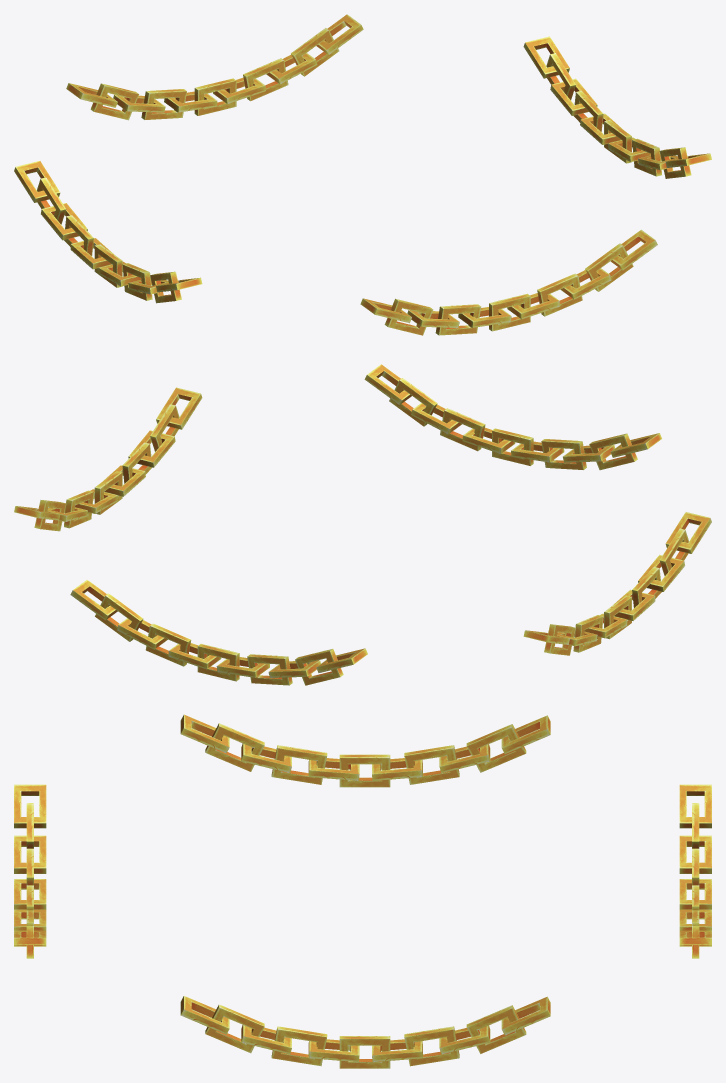
Rendered from The main city_025_LV05_2.FBX.
The picture shows the model from 3 angles, top to bottom: view 1: azimuth 30°, elevation 25°; view 2: azimuth 150°, elevation 25°; view 3: azimuth 270°, elevation 25°; orthographic projection. The views are drawn at different scales.
Parts seen in each view (by area): view 1: The main city_025_LV05_2; view 2: The main city_025_LV05_2; view 3: The main city_025_LV05_2.
Part boxes in pixels (left/top/right/bottom): The main city_025_LV05_2: left=14, top=14, right=711, bottom=335; The main city_025_LV05_2: left=14, top=364, right=711, bottom=685; The main city_025_LV05_2: left=14, top=714, right=711, bottom=1068.
Bounding box in the file's own units: 30.32 × 3.09 × 30.32.
Materials: 1 (1 with a texture image).
